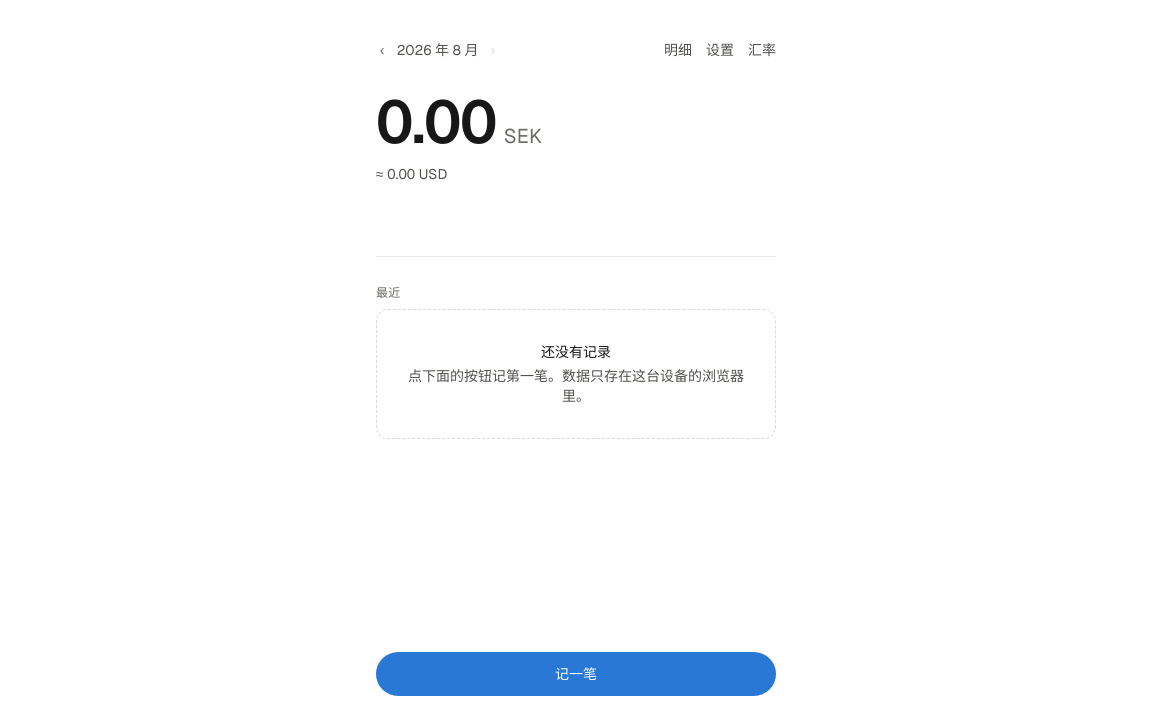
Test: 保存失败不能是静默的 › 写入失败时提示用户、保留浮层、不丢已填内容
Click the button "记一笔" at coordinates (576, 674), box [376,652,776,696]
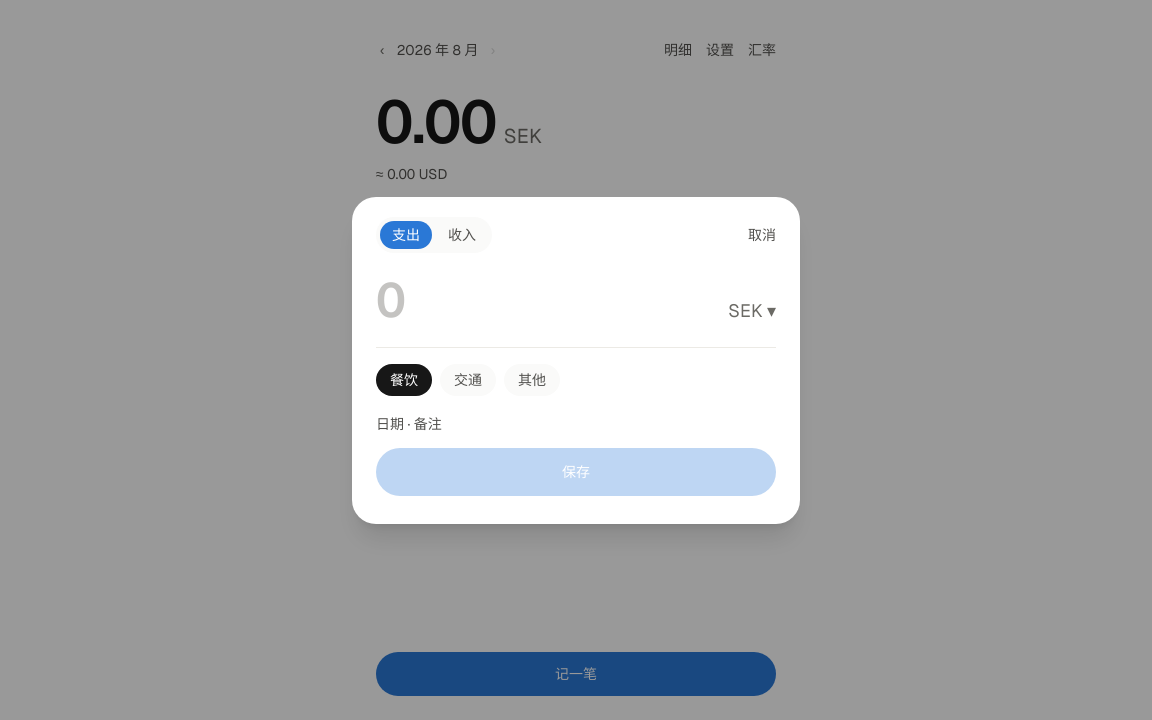
Type "88" into the field named "金额" at coordinates (548, 300), box [376,268,720,330]
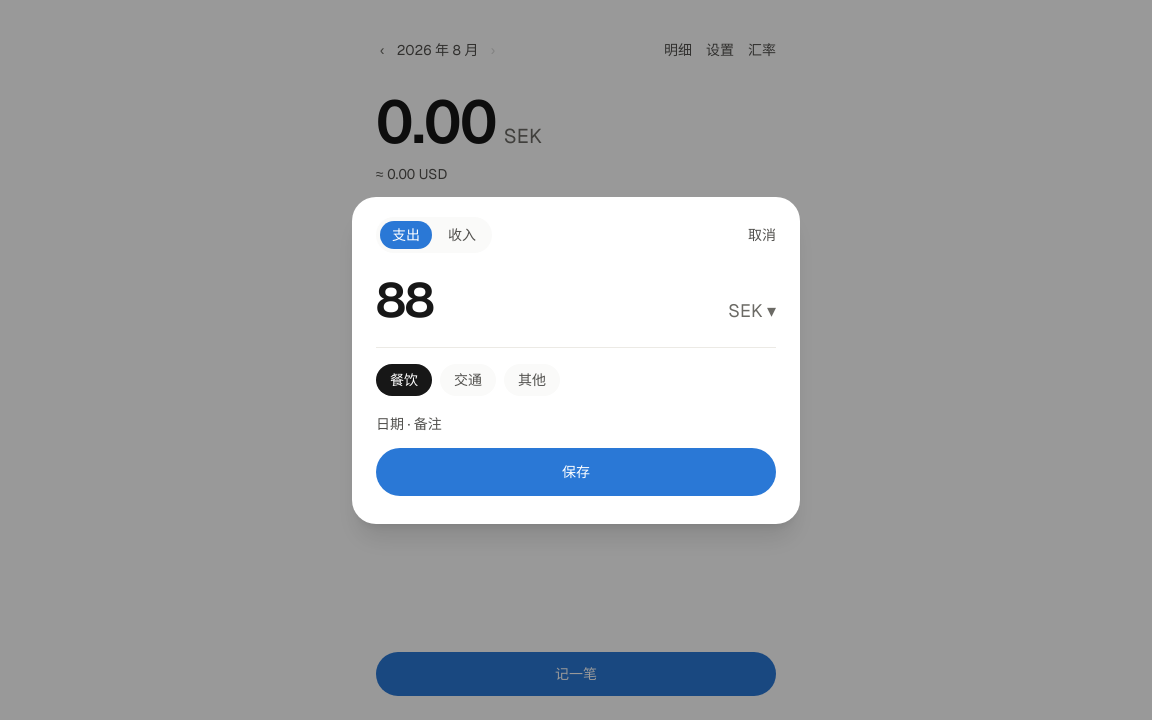
Click the button "保存" at coordinates (576, 472), box [376,448,776,496]
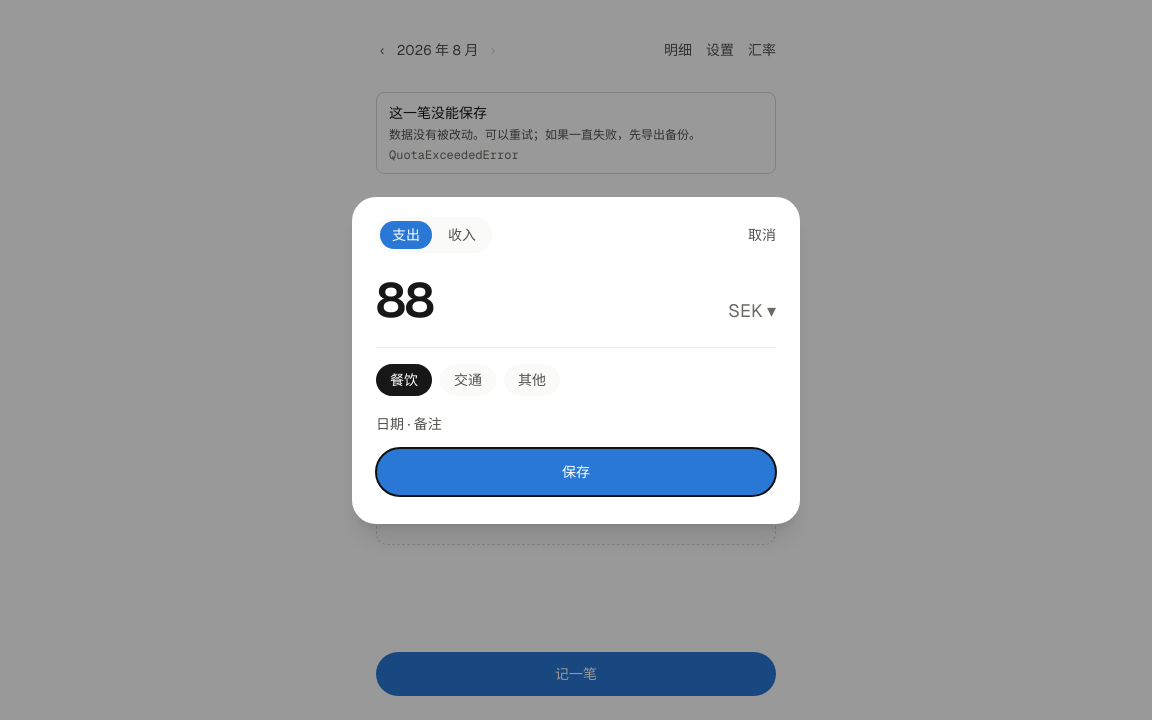
Expected: the message "这一笔没能保存 数据没有被改动。可以重试；如果一直失败，先导出备份。 QuotaExceededError" is shown, [376,92,776,174]
Expected: the text "这一笔没能保存" is shown, [389,104,487,122]
Expected: the text "QuotaExceededError" is shown, [389,147,519,163]
